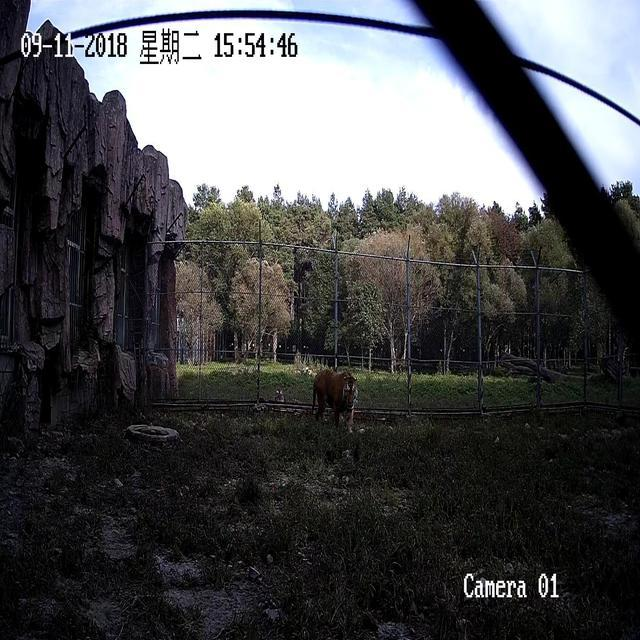tiger: (310, 367, 358, 433)
